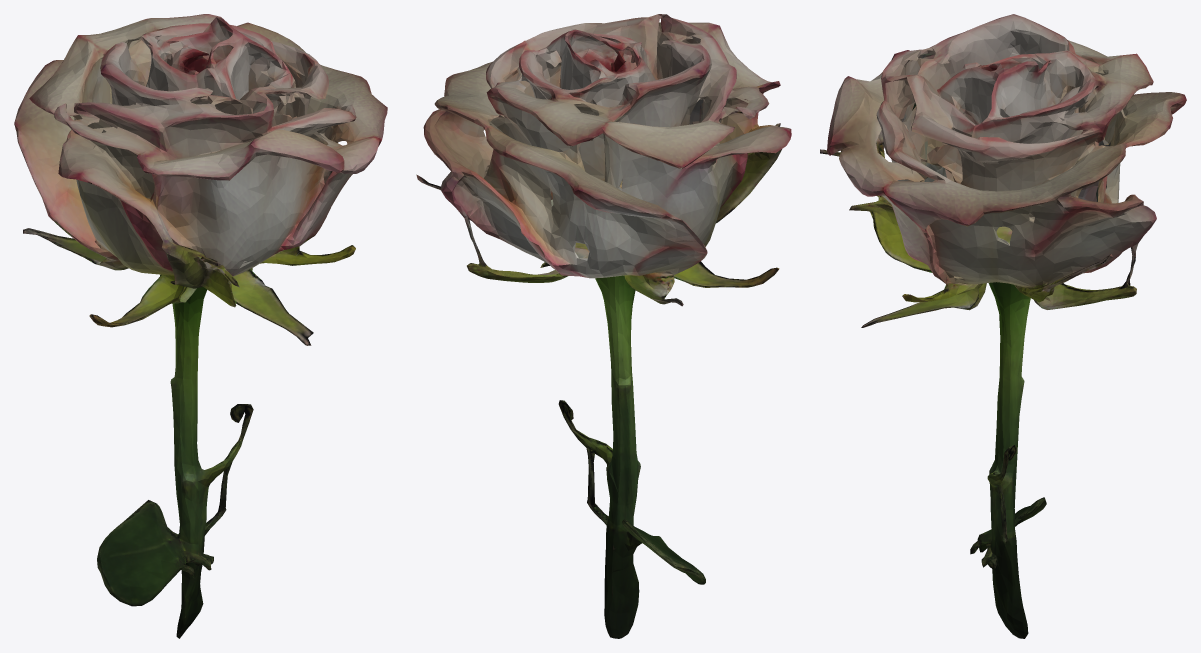
3 renders of one model, left to right at view 1: azimuth 30°, elevation 25°; view 2: azimuth 150°, elevation 25°; view 3: azimuth 270°, elevation 25°, orthographic.
Visible parts, largest first — view 1: world; view 2: world; view 3: world.
Boxes of the visible parts, box(x1,y1,x2,y2) form: world: box(14, 14, 387, 638); world: box(416, 14, 791, 638); world: box(820, 14, 1186, 638).
Bounding box in the file's own units: 0.533 × 0.9517 × 0.528.
Materials: 1 (1 with a texture image).
